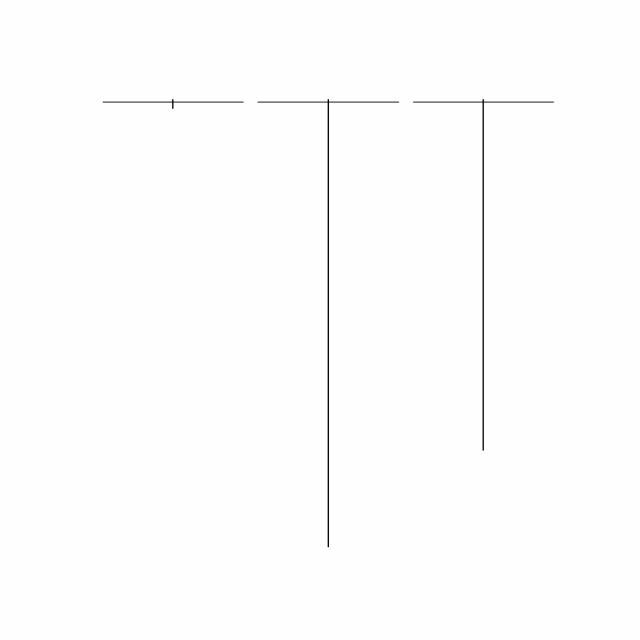Dragonfly Doji: (406, 96, 562, 456)
